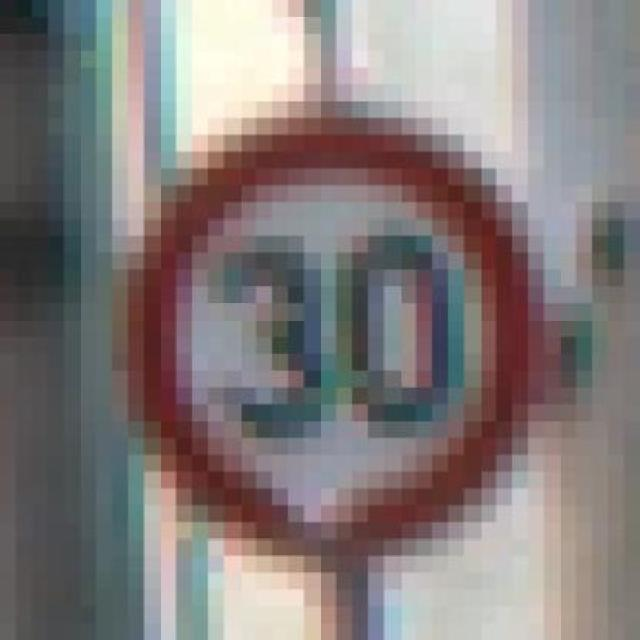forb_speed_over_30: (151, 129, 531, 555)
